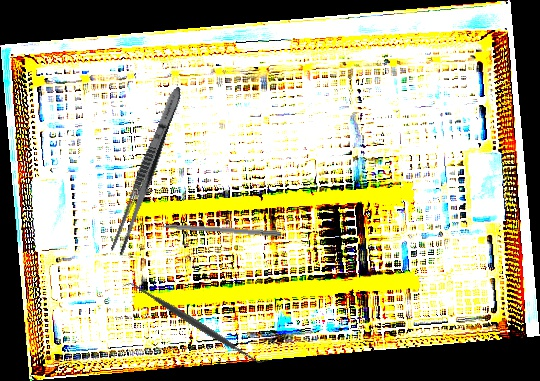Dressing Forceps: (108, 83, 187, 258)
Pusher: (143, 220, 282, 237)
Spatula Surgical: (121, 271, 271, 375)
